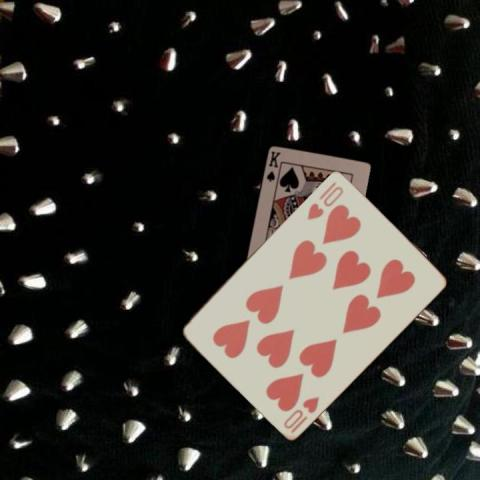10h: (304, 178, 345, 221), (281, 392, 320, 434)
Ks: (263, 148, 282, 183)
